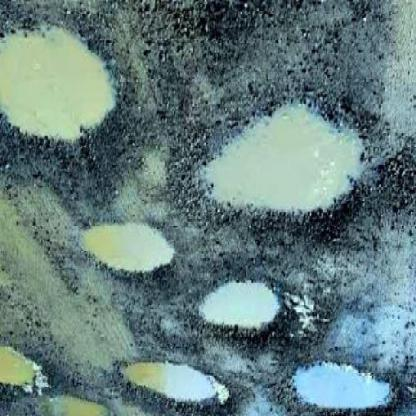pothole: (186, 88, 376, 245), (1, 22, 129, 163), (273, 360, 407, 416), (75, 220, 178, 290), (114, 361, 245, 416), (193, 277, 290, 349), (1, 343, 49, 398), (46, 396, 114, 416)
